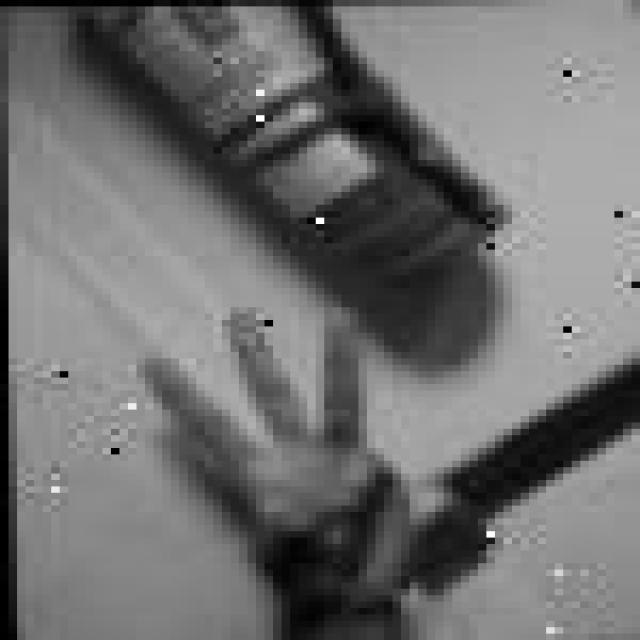W: (124, 291, 422, 618)
